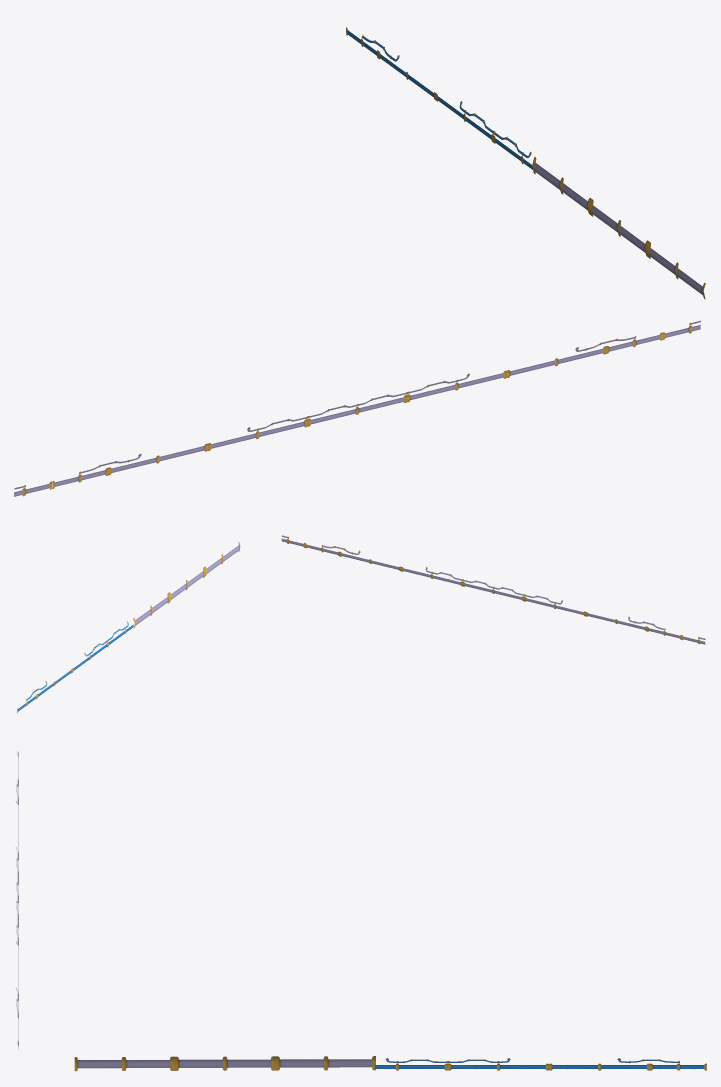
File: Pipes_Level_43_50.fbx
3 views of the same model, one above another, from view 1: azimuth 30°, elevation 25°; view 2: azimuth 150°, elevation 25°; view 3: azimuth 270°, elevation 25° (orthographic). The views are drawn at different scales.
Visible parts, largest first — view 1: Top_Pipes_2D_Creme, Side_Pipes_2D_Creme, Top_Pipes_2D_Blue; view 2: Top_Pipes_2D_Creme, Side_Pipes_2D_Creme, Top_Pipes_2D_Blue; view 3: Side_Pipes_2D_Creme, Top_Pipes_2D_Blue.
Boxes of the visible parts, bbox=[...] form: Top_Pipes_2D_Creme: bbox=[14, 320, 700, 496]; Side_Pipes_2D_Creme: bbox=[532, 156, 705, 299]; Top_Pipes_2D_Blue: bbox=[346, 27, 532, 169]; Top_Pipes_2D_Creme: bbox=[281, 535, 705, 644]; Side_Pipes_2D_Creme: bbox=[133, 542, 240, 628]; Top_Pipes_2D_Blue: bbox=[17, 621, 133, 712]; Side_Pipes_2D_Creme: bbox=[74, 1056, 375, 1071]; Top_Pipes_2D_Blue: bbox=[375, 1058, 706, 1070].
Bounding box in the file's own units: 536 × 15.71 × 503.
1 material, 1 textured.
